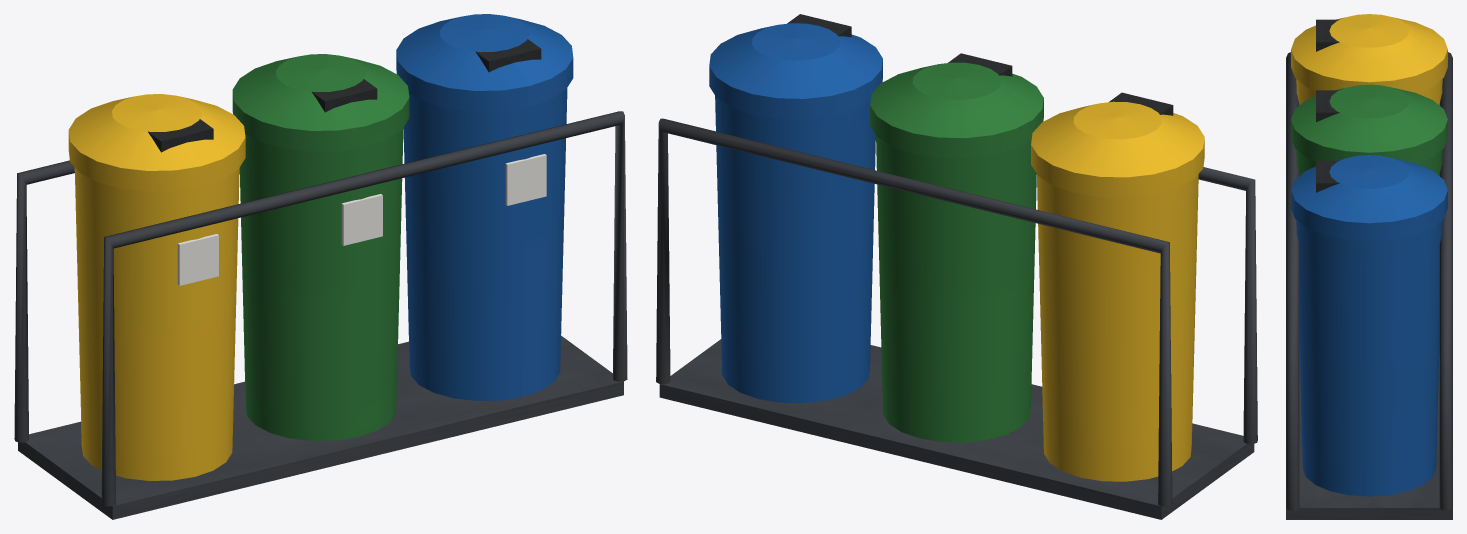
Rendered from poubelles_tri_lod0.glb.
The picture shows the model from 3 angles, left to right: view 1: azimuth 30°, elevation 25°; view 2: azimuth 150°, elevation 25°; view 3: azimuth 270°, elevation 25°; orthographic projection. The views are drawn at different scales.
Parts seen in each view (by area): view 1: poubelles_tri; view 2: poubelles_tri; view 3: poubelles_tri.
Boxes of the visible parts, x1,y1,x2,y2 form: poubelles_tri: (14, 14, 627, 519); poubelles_tri: (656, 14, 1257, 519); poubelles_tri: (1286, 14, 1452, 519).
Size of the model in its own units: 1.6 by 1.03 by 0.5001.
1 material, 1 textured.
